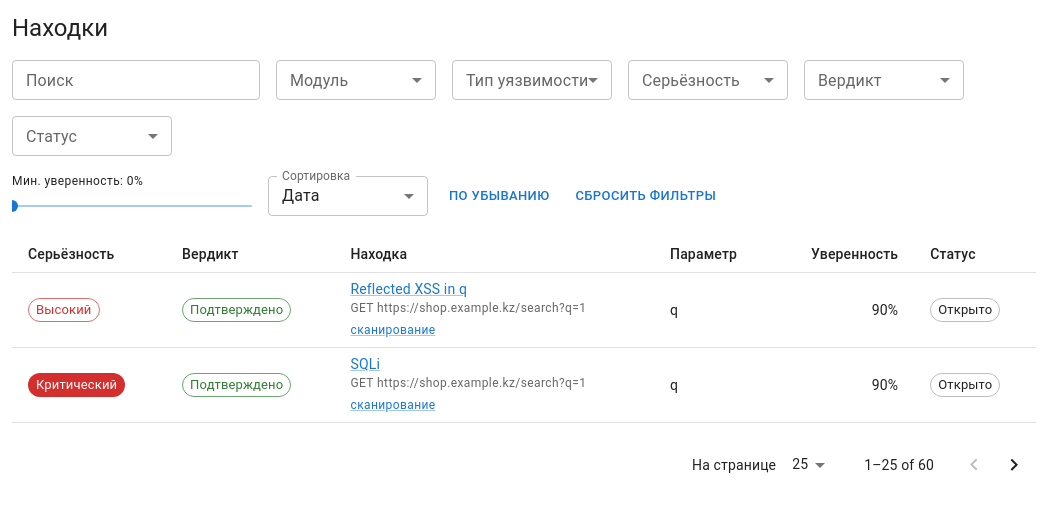
Scenario: FindingsPage › filter Серьёзность updates the query string
Check: the table named "Список находок" is shown, box [12, 236, 1036, 423]
Click the 3rd dropdown named "Серьёзность": (708, 80) [628, 60, 788, 100]
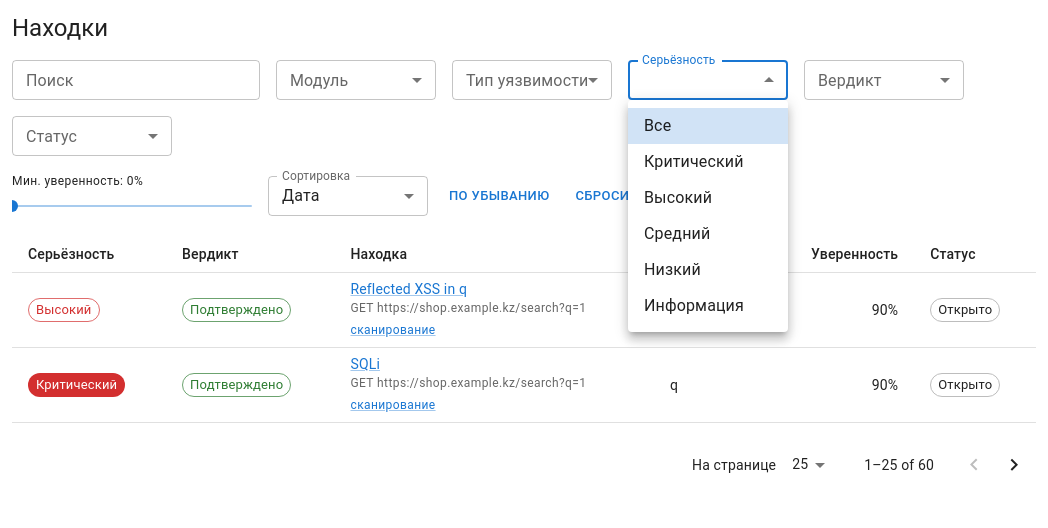
Click the option "Критический": (694, 162) [644, 152, 744, 171]
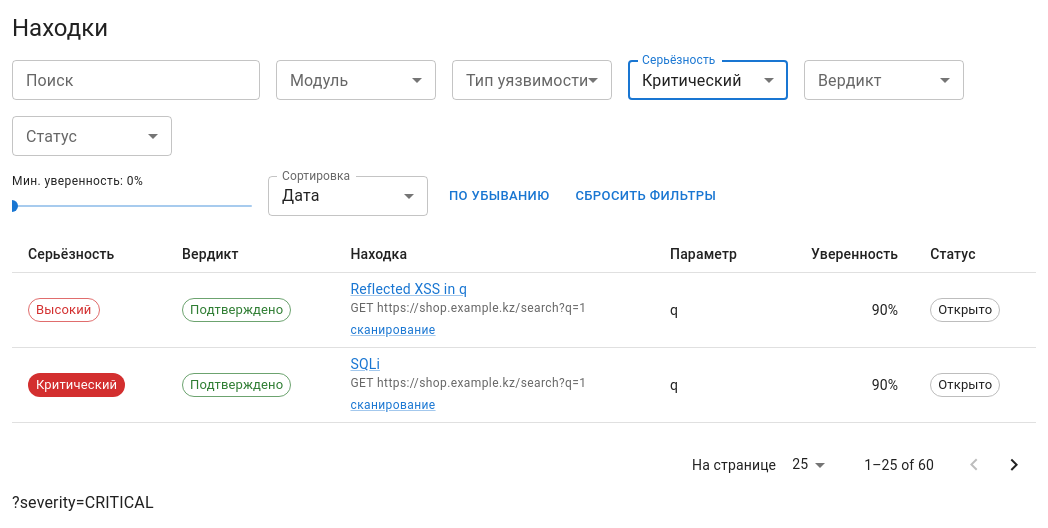
Check: the text with test id "search" shows "severity=CRITICAL", box [12, 493, 154, 512]
